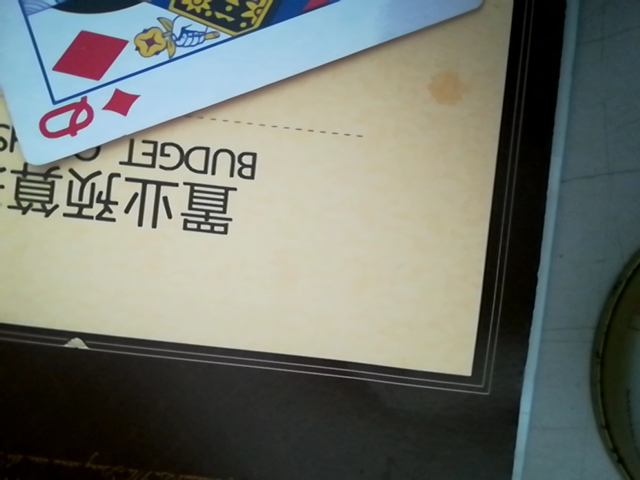fk q: (0, 0, 499, 161)
